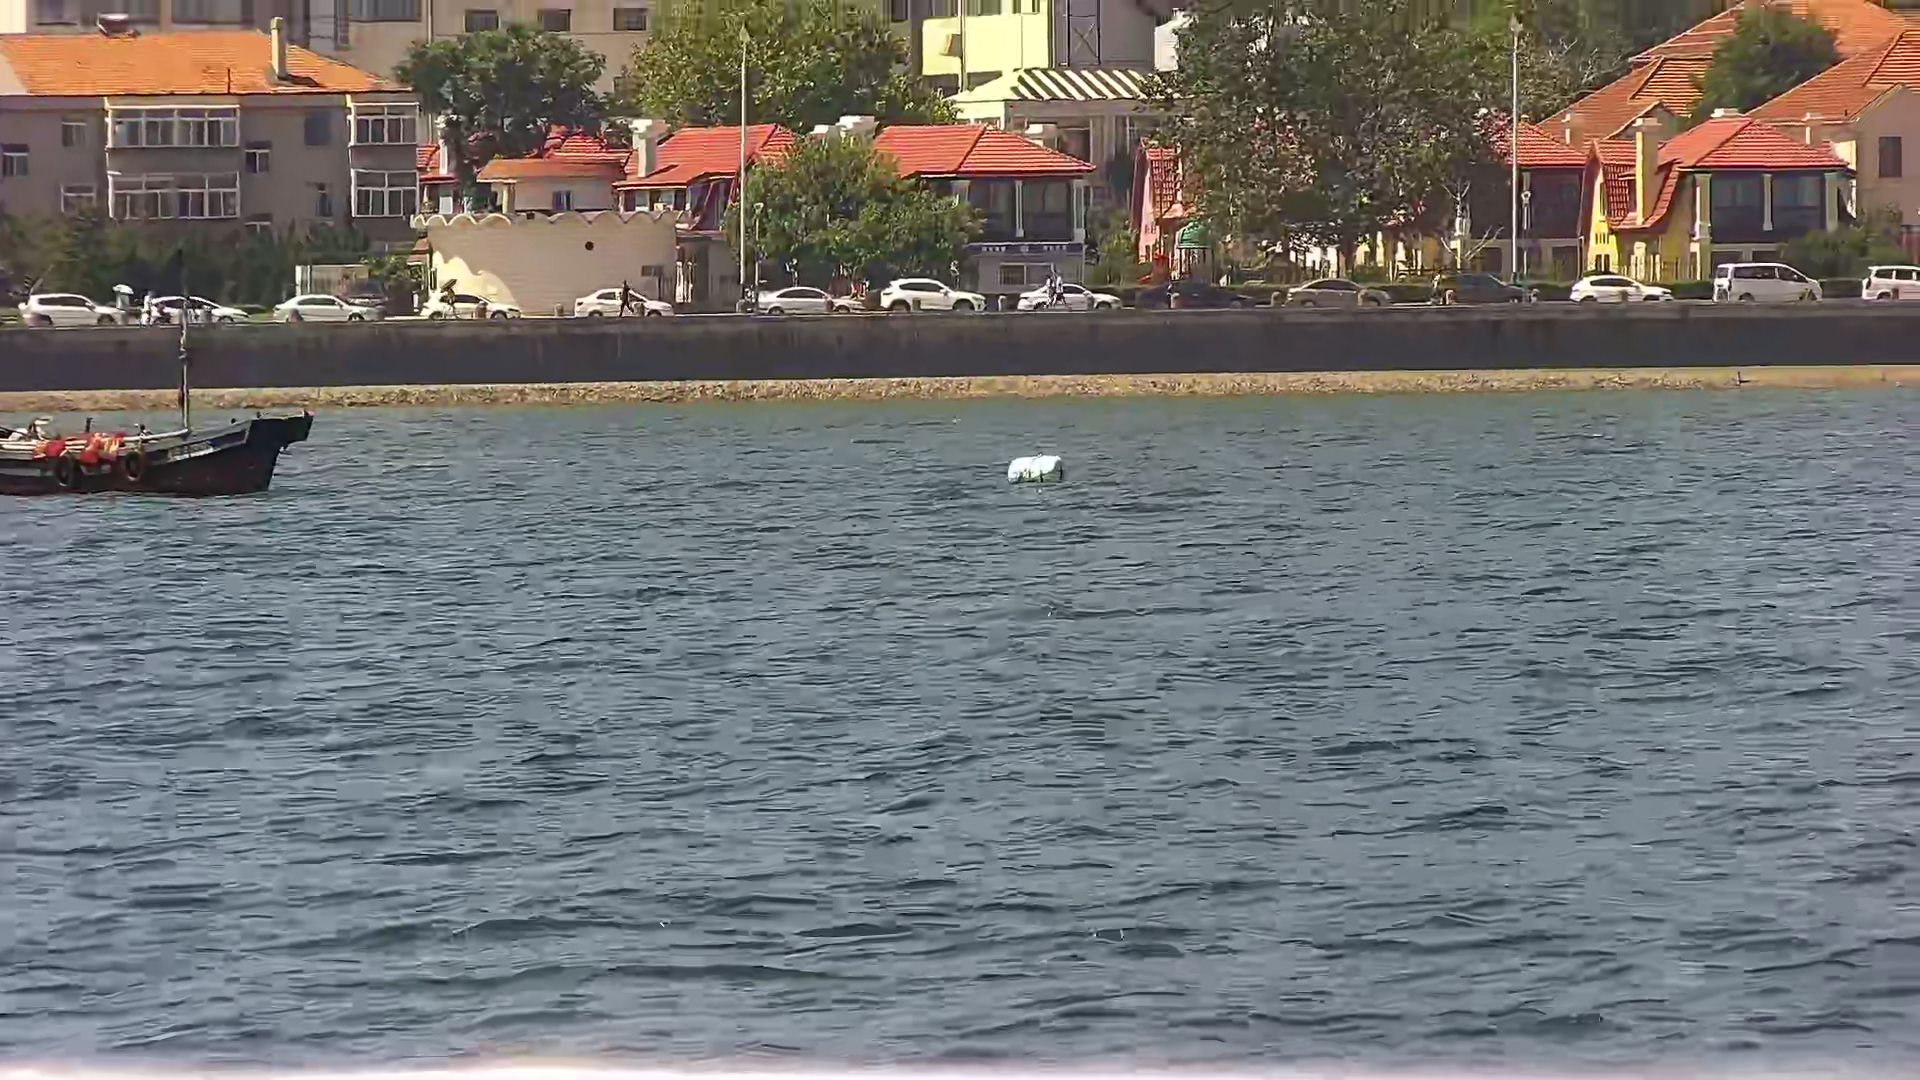boat: (3, 415, 313, 498)
rubbish: (1009, 454, 1067, 487)
